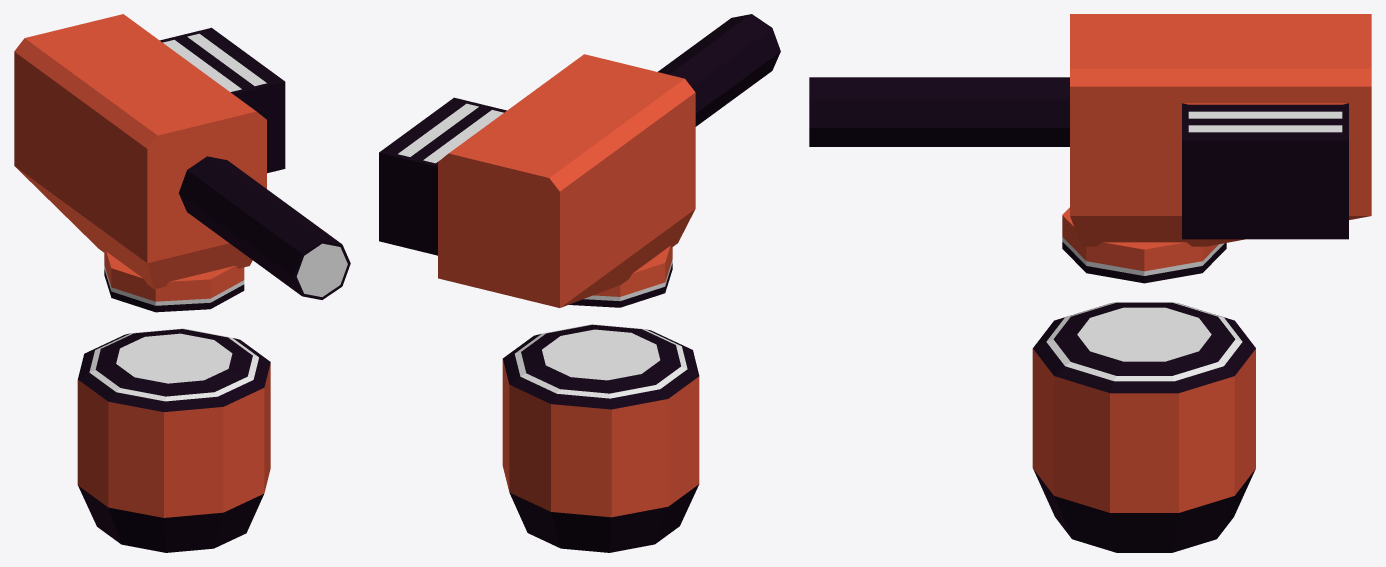
Rendered from enemyTurret.fbx.
3 renders of one model, left to right at view 1: azimuth 30°, elevation 25°; view 2: azimuth 150°, elevation 25°; view 3: azimuth 270°, elevation 25°, orthographic. The views are drawn at different scales.
Parts seen in each view (by area): view 1: turret gun, turret bottom; view 2: turret gun, turret bottom; view 3: turret gun, turret bottom.
Part boxes in pixels (x1=…): turret gun: x1=14, y1=14, x2=350, y2=312; turret bottom: x1=77, y1=328, x2=270, y2=552; turret gun: x1=379, y1=14, x2=780, y2=307; turret bottom: x1=502, y1=324, x2=699, y2=552; turret gun: x1=809, y1=14, x2=1371, y2=283; turret bottom: x1=1032, y1=302, x2=1255, y2=552.
Size of the model in its own units: 106 by 203 by 217.
